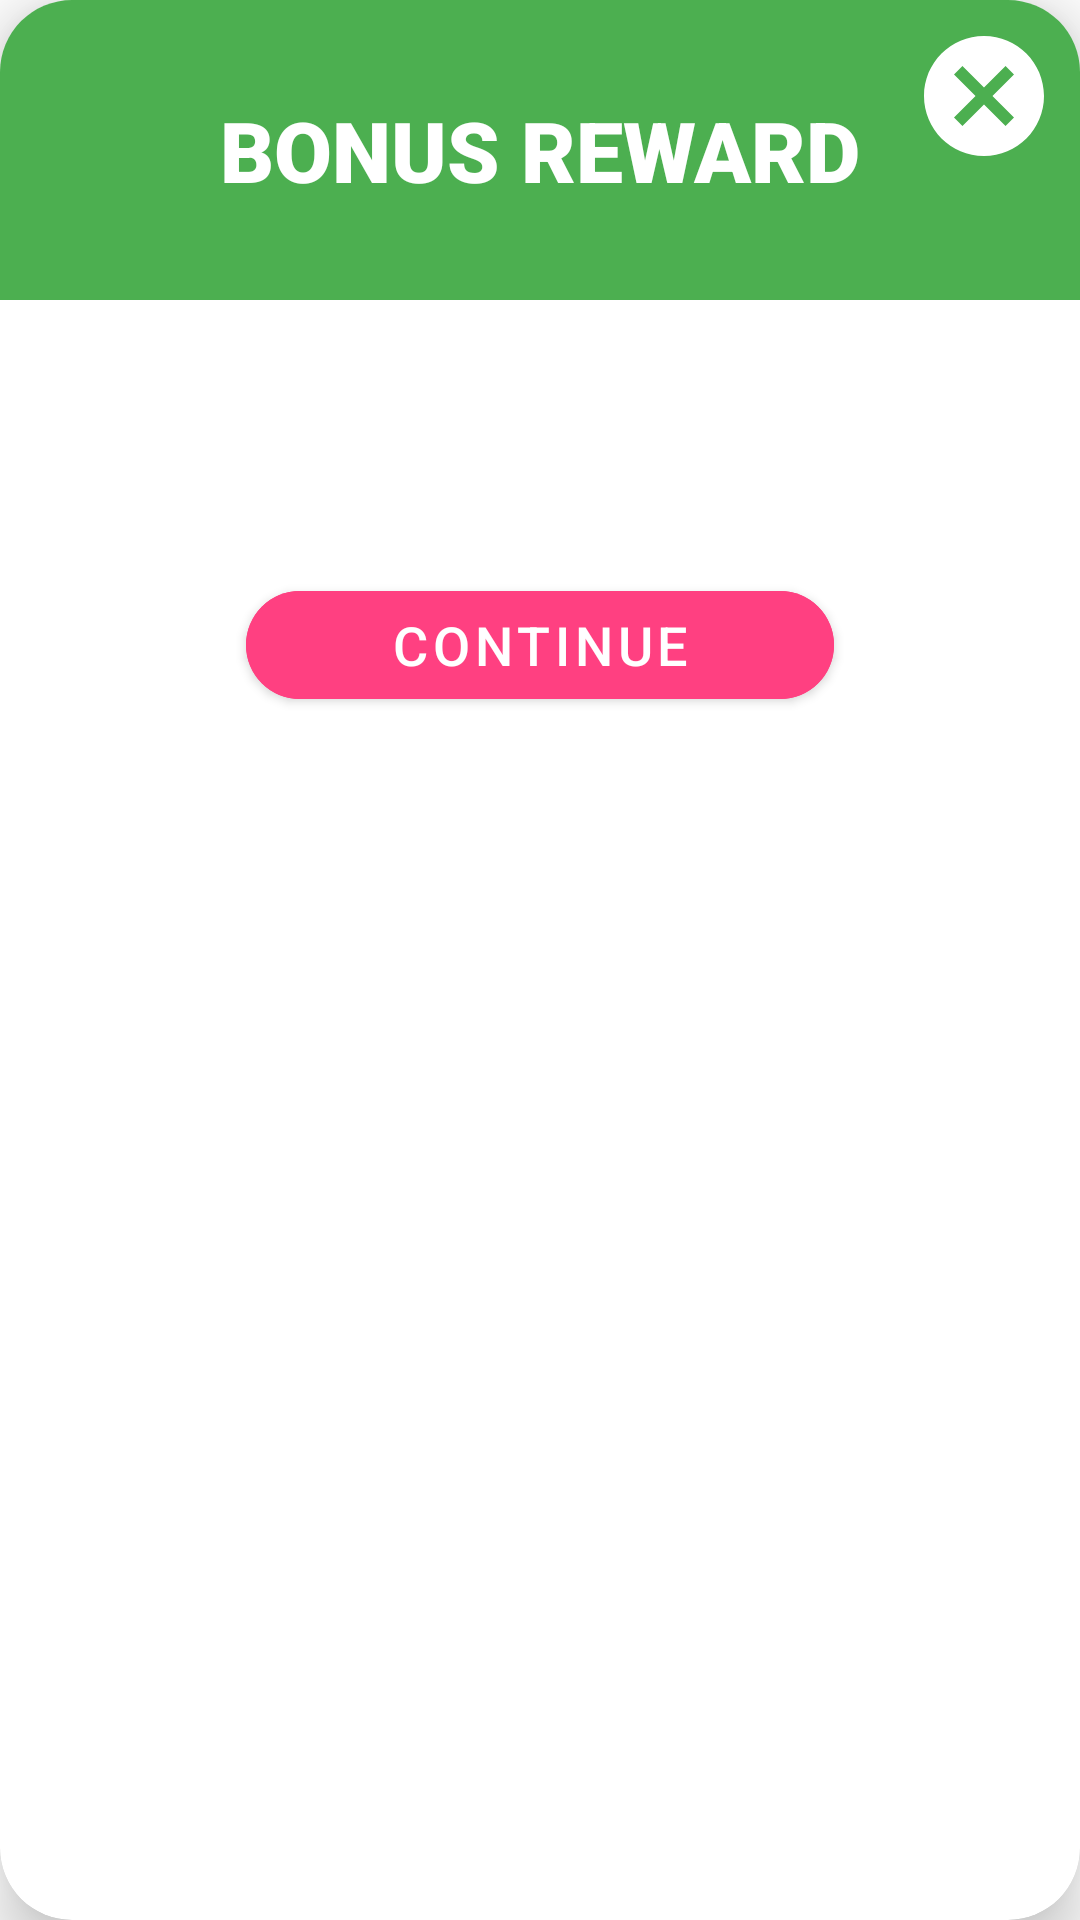

Icons on this 1080 x 1920 Android screen, each with its box as region(x1, y1, x2, y2):
Cancel Button: region(924, 36, 1044, 156)
